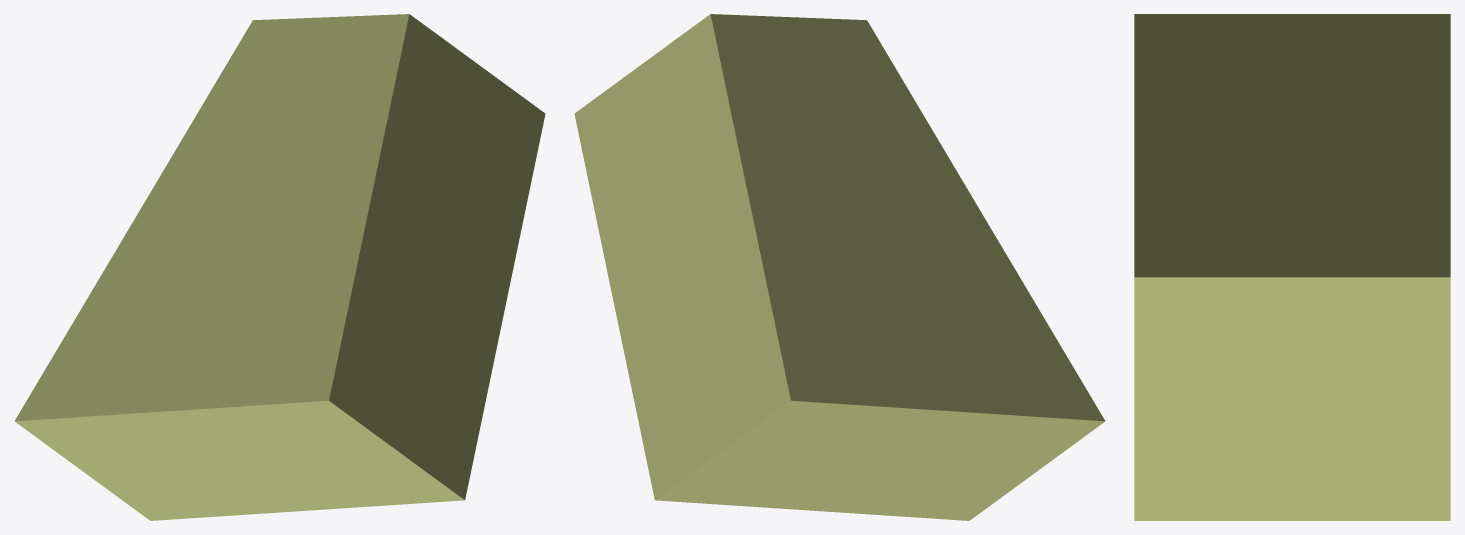
3 renders of one model, left to right at view 1: azimuth 30°, elevation 25°; view 2: azimuth 150°, elevation 25°; view 3: azimuth 270°, elevation 25°, orthographic. The views are drawn at different scales.
Visible parts, largest first — view 1: 0_2_1_0_0_0_0_0_3_0; view 2: 0_2_1_0_0_0_0_0_3_0; view 3: 0_2_1_0_0_0_0_0_3_0.
Boxes of the visible parts, x1,y1,x2,y2 form: 0_2_1_0_0_0_0_0_3_0: (14, 14, 545, 520); 0_2_1_0_0_0_0_0_3_0: (574, 14, 1105, 520); 0_2_1_0_0_0_0_0_3_0: (1134, 14, 1450, 520).
Size of the model in its own units: 10.05 by 9.71 by 6.
